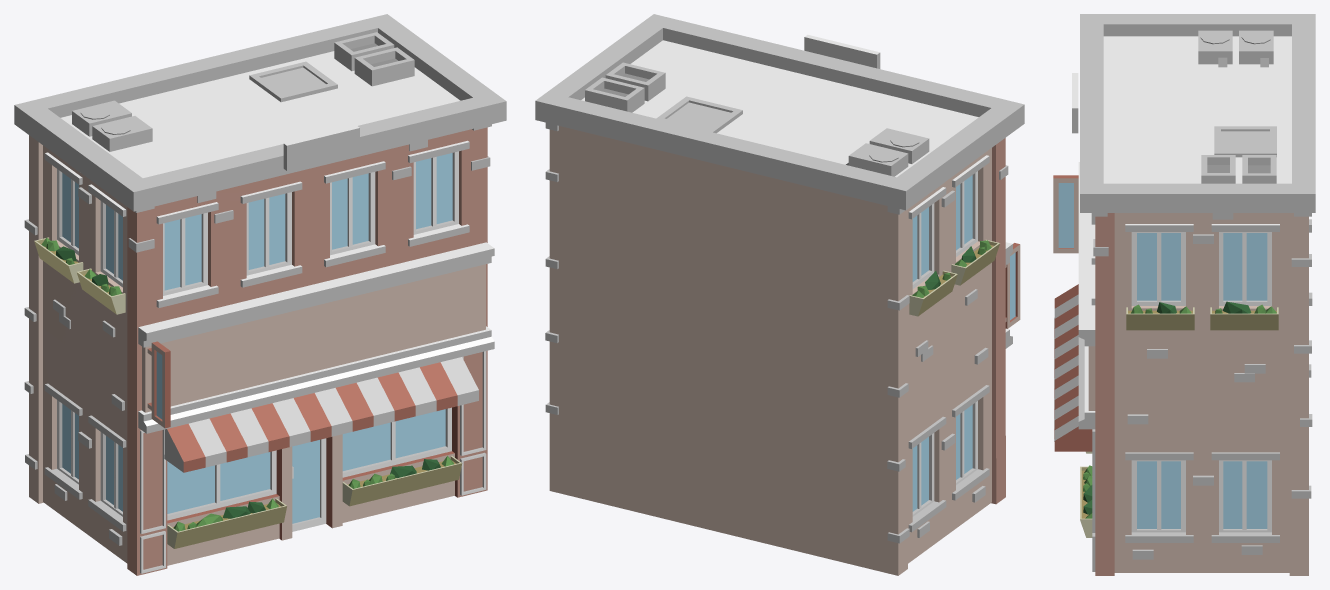
The model's file is house_small_2_009.glb.
3 renders of one model, left to right at view 1: azimuth 30°, elevation 25°; view 2: azimuth 150°, elevation 25°; view 3: azimuth 270°, elevation 25°, orthographic.
Parts seen in each view (by area): view 1: house_small_2_009; view 2: house_small_2_009; view 3: house_small_2_009.
Boxes of the visible parts, left/top/right/bottom form: house_small_2_009: left=14, top=14, right=506, bottom=575; house_small_2_009: left=535, top=14, right=1024, bottom=575; house_small_2_009: left=1053, top=14, right=1315, bottom=575.
Size of the model in its own units: 7.2 by 7.48 by 4.44.
Materials: 1 (1 with a texture image).
